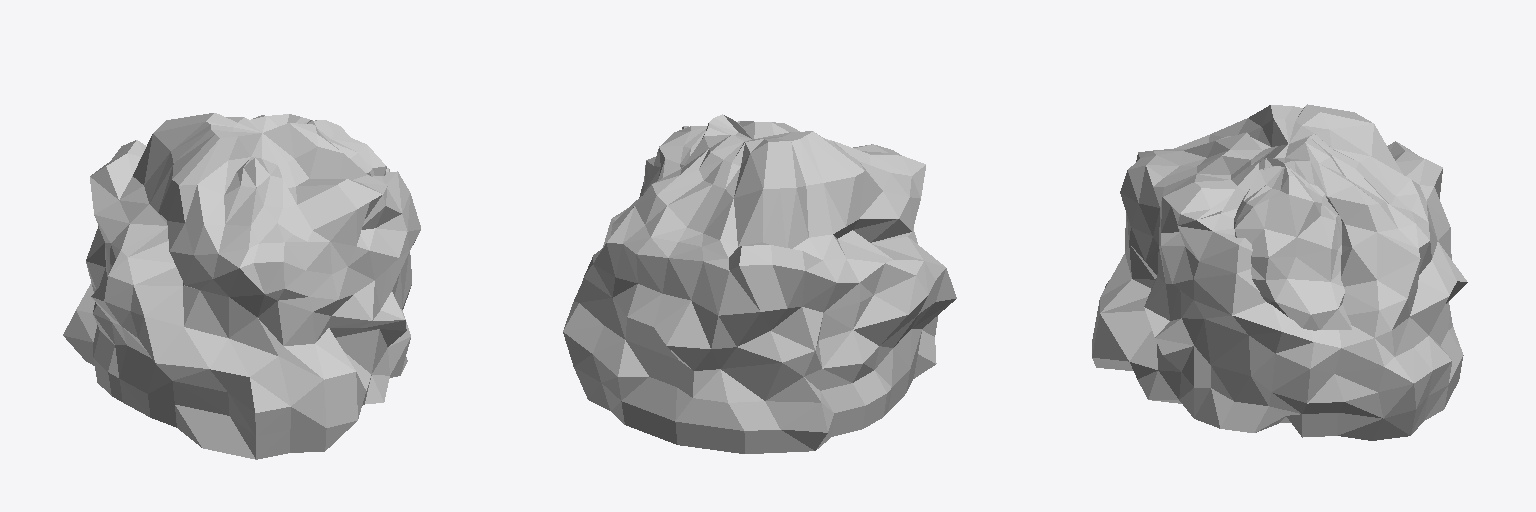
File: crystal_rock.obj
The picture shows the model from 3 angles: view 1: azimuth 30°, elevation 25°; view 2: azimuth 150°, elevation 25°; view 3: azimuth 270°, elevation 25°; orthographic projection.
Parts seen in each view (by area): view 1: Sphere, Sphere.001; view 2: Sphere, Sphere.001; view 3: Sphere, Sphere.001.
Boxes of the visible parts, x1=… form: Sphere: x1=63, y1=113, x2=420, y2=459; Sphere.001: x1=314, y1=120, x2=389, y2=176; Sphere: x1=563, y1=114, x2=956, y2=453; Sphere.001: x1=610, y1=126, x2=706, y2=237; Sphere: x1=1092, y1=104, x2=1467, y2=440; Sphere.001: x1=1234, y1=166, x2=1351, y2=330.
Bounding box in the file's own units: 2.01 × 1.65 × 2.1.